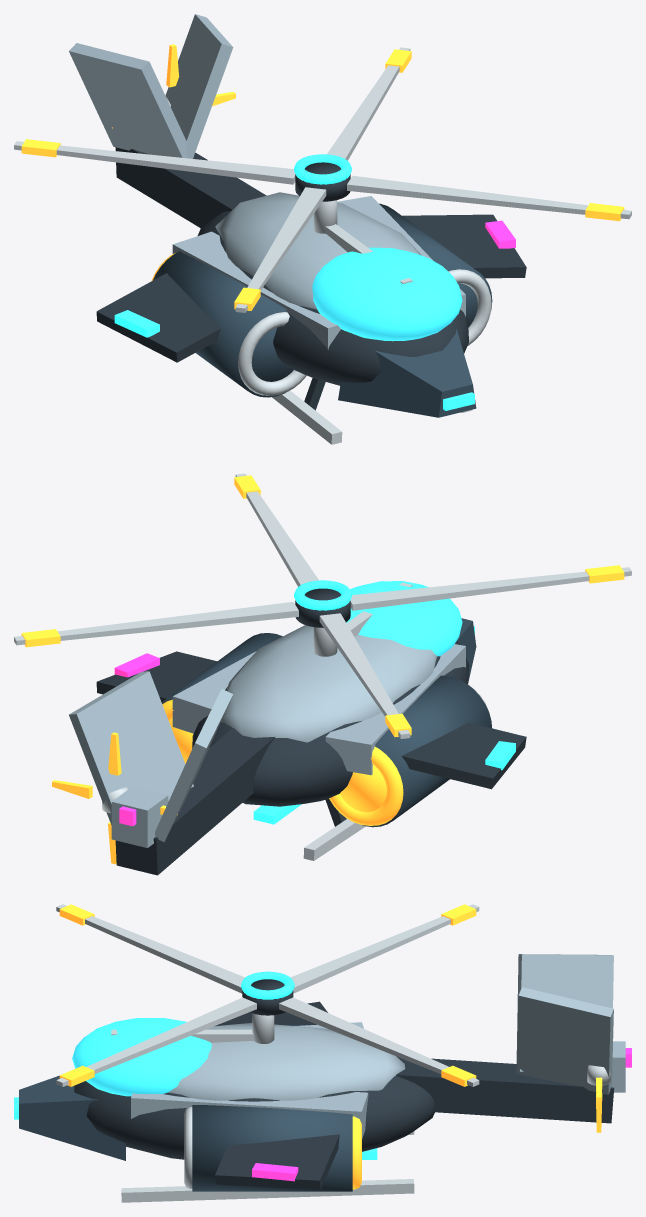
Rendered from rotorcraft_hero.glb.
The picture shows the model from 3 angles, top to bottom: view 1: azimuth 30°, elevation 25°; view 2: azimuth 150°, elevation 25°; view 3: azimuth 270°, elevation 25°; orthographic projection. The views are drawn at different scales.
Visible parts, largest first — view 1: CockpitCanopy, UpperChromeShell, TailFin_-1, EnginePod_-1, FuselageCore, NeedleNose, Winglet_-1, TailBoom, TailFin_+1, Winglet_+1, MainBlade_3, MainBlade_1 (+13 smaller); view 2: UpperChromeShell, TailFin_+1, TailBoom, FuselageCore, EnginePod_-1, CockpitCanopy, Winglet_-1, Shoulder_-1, MainBlade_0, MainBlade_2, TailFin_-1, TailChromeCap (+17 smaller); view 3: UpperChromeShell, FuselageCore, EnginePod_+1, TailBoom, TailFin_+1, CockpitCanopy, Winglet_+1, NeedleNose, TailFin_-1, SkidRail_+1, Shoulder_+1, MainBlade_0 (+16 smaller).
Part boxes in pixels (x1,y1,x2,y2): CockpitCanopy: [312, 247, 462, 341]; UpperChromeShell: [215, 192, 421, 309]; TailFin_-1: [69, 43, 193, 158]; EnginePod_-1: [153, 251, 293, 397]; FuselageCore: [197, 211, 468, 385]; NeedleNose: [338, 328, 476, 417]; Winglet_-1: [96, 273, 220, 362]; TailBoom: [115, 147, 266, 228]; TailFin_+1: [165, 14, 233, 158]; Winglet_+1: [402, 214, 526, 278]; MainBlade_3: [347, 175, 631, 219]; MainBlade_1: [14, 141, 295, 184]; UpperChromeShell: [221, 625, 437, 742]; TailFin_+1: [69, 671, 193, 824]; TailBoom: [115, 727, 274, 875]; FuselageCore: [192, 641, 468, 806]; EnginePod_-1: [362, 675, 491, 827]; CockpitCanopy: [346, 581, 462, 656]; Winglet_-1: [401, 722, 526, 789]; Shoulder_-1: [325, 644, 465, 775]; MainBlade_0: [14, 602, 298, 645]; MainBlade_2: [350, 567, 631, 610]; TailFin_-1: [155, 689, 233, 842]; TailChromeCap: [111, 786, 168, 847]; UpperChromeShell: [168, 1023, 405, 1100]; FuselageCore: [74, 1075, 435, 1159]; EnginePod_+1: [192, 1105, 352, 1191]; TailBoom: [396, 1056, 614, 1123]; TailFin_+1: [516, 987, 613, 1094]; CockpitCanopy: [72, 1018, 211, 1096]; Winglet_+1: [215, 1134, 339, 1189]; NeedleNose: [19, 1075, 125, 1160]; TailFin_-1: [516, 954, 613, 1071]; SkidRail_+1: [121, 1179, 414, 1202]; Shoulder_+1: [131, 1092, 368, 1138]; MainBlade_0: [279, 997, 479, 1086].
Bounding box in the file's own units: 4.63 × 2.42 × 6.76.
